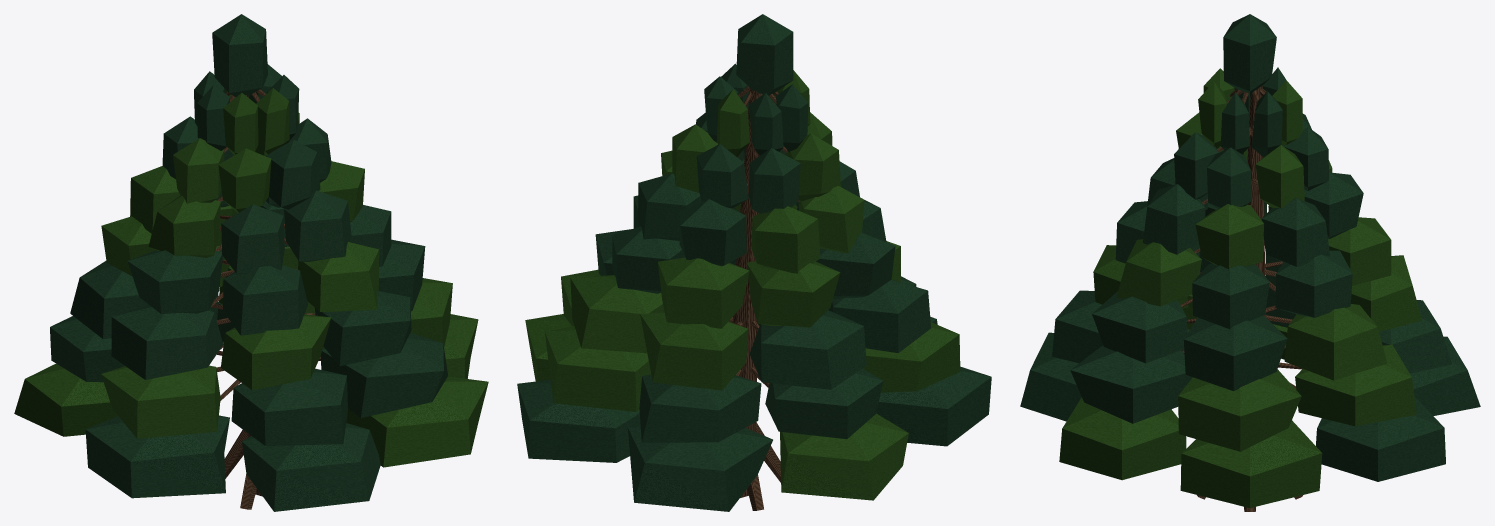
Rendered from conifer_layered_01.fbx.
3 renders of one model, left to right at view 1: azimuth 30°, elevation 25°; view 2: azimuth 150°, elevation 25°; view 3: azimuth 270°, elevation 25°, orthographic. The views are drawn at different scales.
Parts seen in each view (by area): view 1: conifer_layered_01_LOD0; view 2: conifer_layered_01_LOD0; view 3: conifer_layered_01_LOD0.
Boxes of the visible parts, <box> form: conifer_layered_01_LOD0: <box>14,14,488,511</box>; conifer_layered_01_LOD0: <box>517,14,991,511</box>; conifer_layered_01_LOD0: <box>1020,14,1480,511</box>.
Size of what is drawn, in the model's own units: 0.8861 by 1 by 0.898.
1 material, 1 textured.
